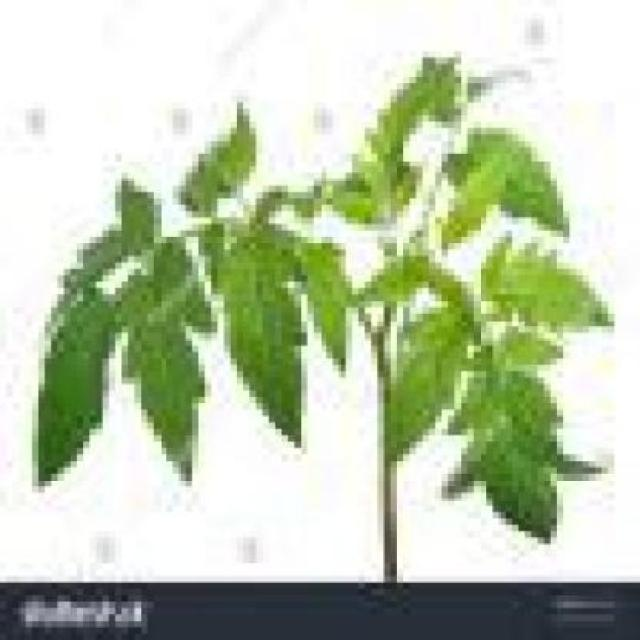Tomato leaf bacterial spot: (123, 238, 257, 546), (463, 315, 584, 570), (226, 193, 327, 475), (475, 226, 635, 386), (33, 270, 135, 501), (353, 53, 455, 258), (424, 116, 526, 295), (386, 295, 475, 475)
